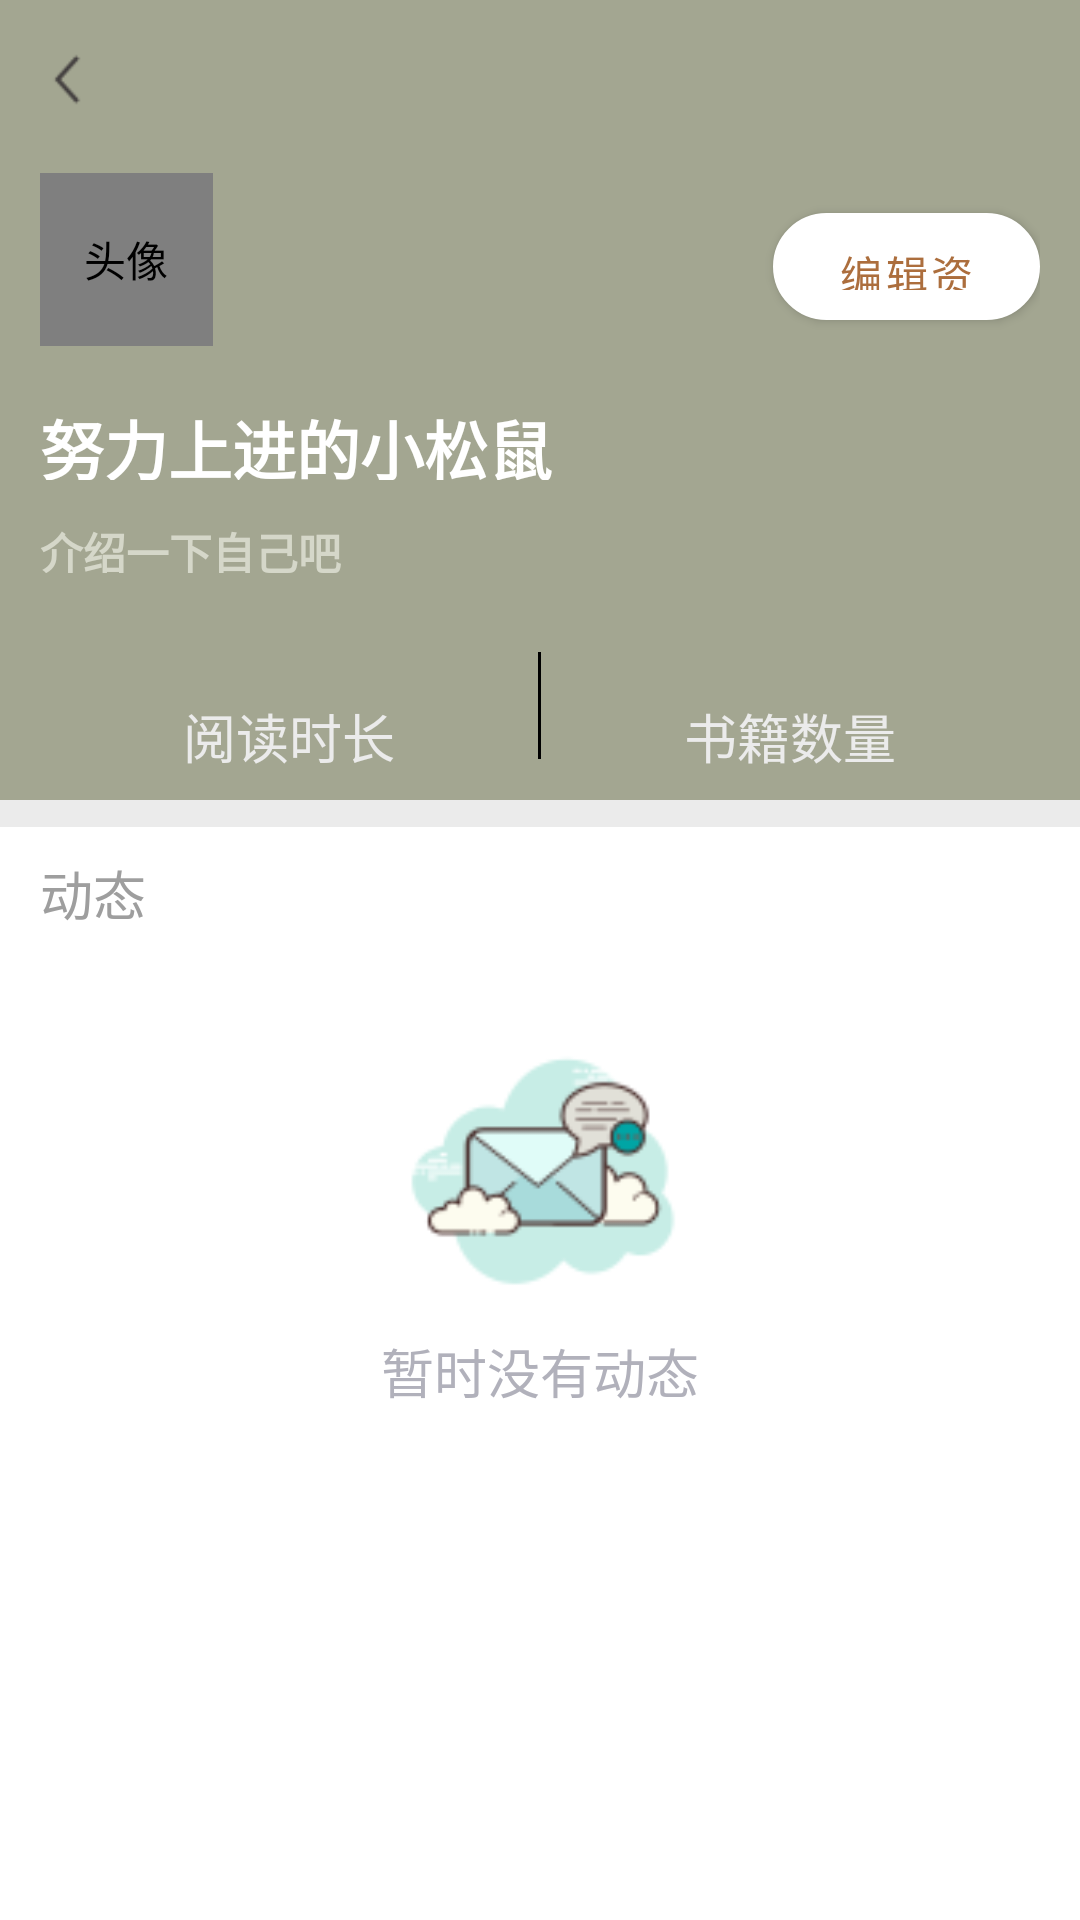

Where to tap for icons on this 1080x1920 app screen, as (x,y):
无新消息: (543,1171)
返回: (67,79)
